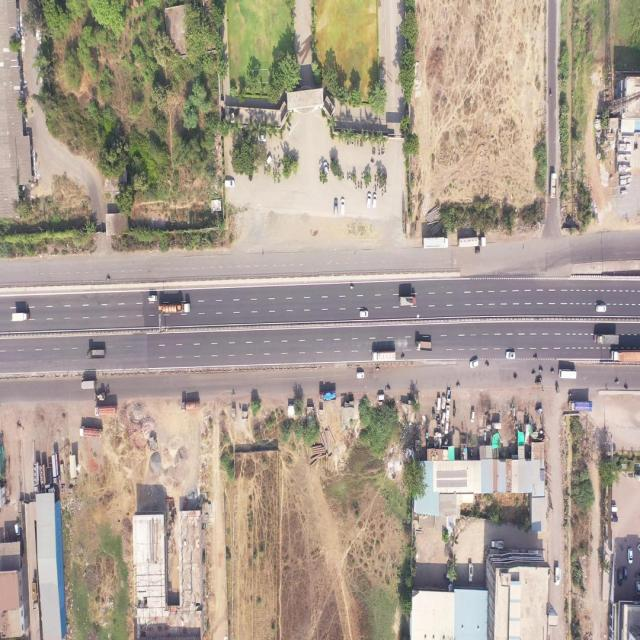3W: (492, 422, 502, 430), (536, 407, 543, 414), (555, 384, 560, 393), (535, 381, 542, 386), (475, 248, 480, 253)
Bus: (558, 368, 577, 380)
Cars: (627, 548, 633, 565), (505, 351, 515, 361), (366, 193, 372, 208), (469, 359, 479, 368), (224, 179, 234, 187), (617, 570, 622, 586), (14, 522, 20, 535), (635, 580, 640, 595), (359, 310, 368, 318), (372, 194, 377, 208), (596, 305, 606, 312), (441, 410, 446, 424), (323, 162, 328, 175), (341, 199, 345, 215), (442, 394, 446, 410), (610, 504, 617, 513), (610, 515, 618, 522), (623, 566, 627, 580), (334, 198, 337, 216), (470, 410, 474, 422), (357, 372, 364, 378), (378, 394, 384, 400)
LCV: (12, 312, 30, 322), (86, 350, 105, 359), (550, 173, 556, 199), (81, 380, 95, 390), (148, 295, 158, 302), (447, 389, 451, 403)
M2W: (634, 142, 638, 152), (348, 171, 351, 180), (347, 171, 349, 181), (350, 286, 355, 290), (550, 370, 555, 374), (383, 146, 385, 155), (378, 147, 380, 156), (372, 146, 374, 155), (342, 171, 344, 180), (384, 186, 386, 194), (374, 184, 376, 192), (374, 174, 376, 182), (355, 182, 357, 190), (456, 384, 460, 388), (360, 140, 362, 147), (361, 173, 363, 180), (358, 181, 360, 188), (356, 140, 358, 146), (615, 380, 619, 383), (624, 386, 628, 389), (568, 393, 572, 396), (534, 356, 538, 359), (539, 369, 543, 372), (538, 377, 542, 380), (514, 376, 518, 379), (486, 363, 490, 366), (387, 387, 391, 390), (351, 171, 352, 181), (352, 141, 354, 146), (374, 146, 375, 155), (361, 181, 362, 190), (107, 277, 110, 280), (532, 372, 535, 375), (402, 356, 405, 359), (381, 186, 383, 190), (377, 178, 378, 186), (370, 160, 374, 162), (376, 368, 380, 370), (382, 190, 383, 197), (380, 184, 380, 189), (382, 146, 382, 155)
MAV: (610, 350, 640, 362), (158, 303, 190, 313), (422, 237, 448, 249), (457, 237, 486, 247), (79, 426, 101, 439), (51, 454, 60, 484), (372, 350, 395, 360), (95, 406, 116, 416), (33, 462, 40, 492), (181, 401, 200, 411), (32, 582, 38, 610)
Truck: (593, 334, 619, 346), (568, 400, 593, 412), (415, 340, 432, 352), (399, 295, 416, 306), (319, 391, 336, 401)
